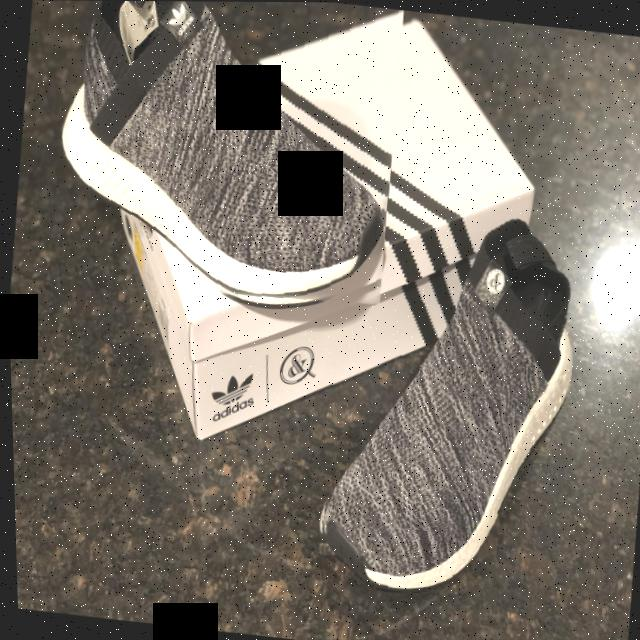shoe: (41, 0, 411, 318), (303, 257, 584, 607)
